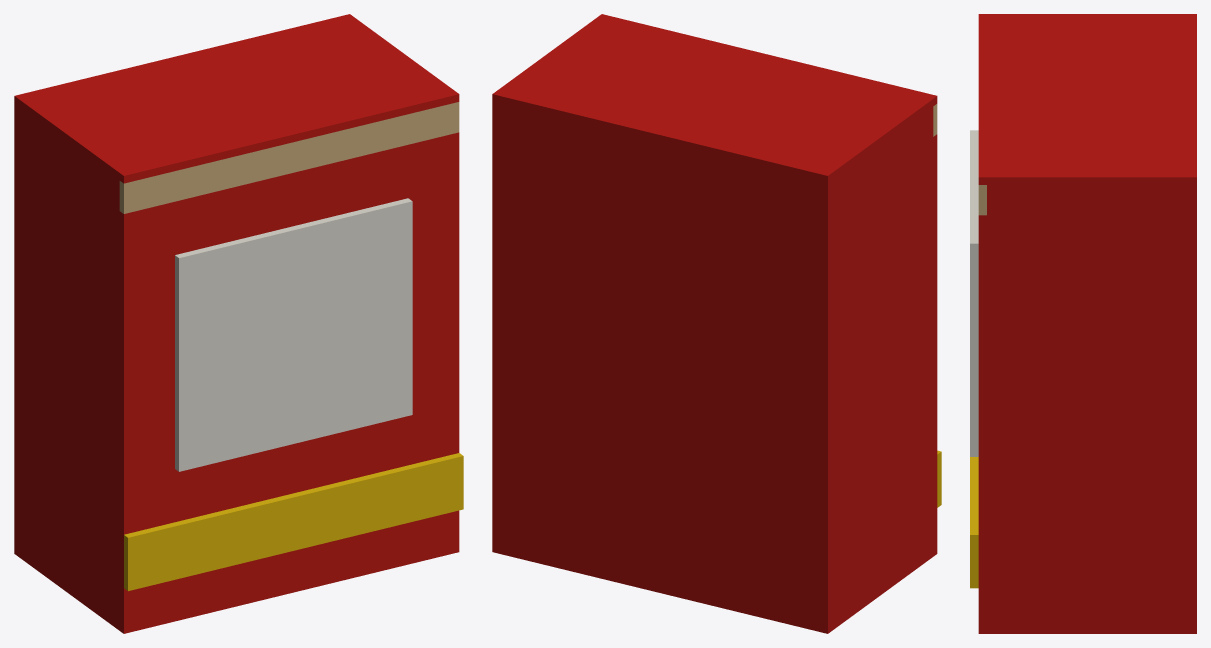
The model's file is box_snack.glb.
The picture shows the model from 3 angles, left to right: view 1: azimuth 30°, elevation 25°; view 2: azimuth 150°, elevation 25°; view 3: azimuth 270°, elevation 25°; orthographic projection.
Visible parts, largest first — view 1: box_snack:compound; view 2: box_snack:compound; view 3: box_snack:compound.
Boxes of the visible parts, x1,y1,x2,y2 form: box_snack:compound: [14, 14, 463, 633]; box_snack:compound: [492, 14, 941, 633]; box_snack:compound: [970, 14, 1196, 633].
Size of the model in its own units: 0.092 by 0.12 by 0.054.
